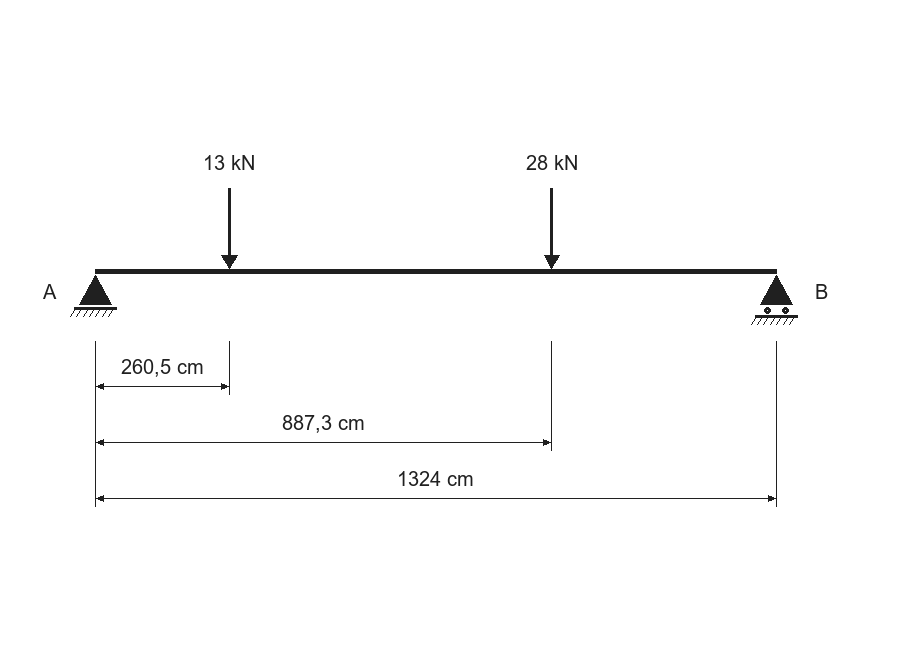pin_support: (70, 275, 117, 317)
point_load: (221, 188, 238, 269), (544, 188, 560, 269)
roller_support: (751, 275, 798, 325)
